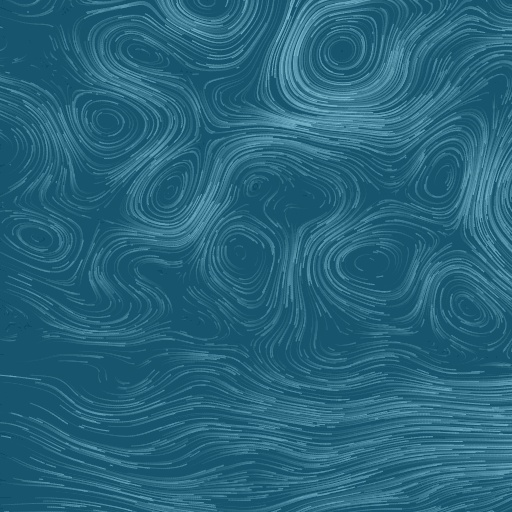eddy: (290, 5, 393, 100), (203, 213, 280, 306), (67, 87, 150, 161), (325, 230, 420, 289), (410, 134, 478, 216), (433, 276, 505, 337), (3, 206, 76, 265), (142, 156, 198, 217), (112, 28, 175, 72), (244, 168, 273, 200)
